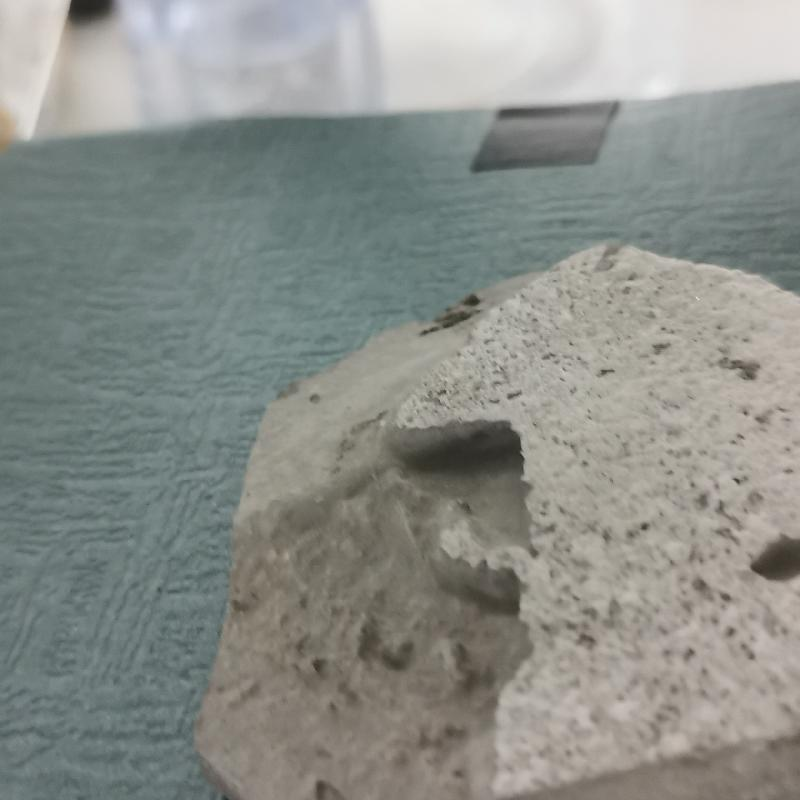tile: (185, 238, 799, 800)
